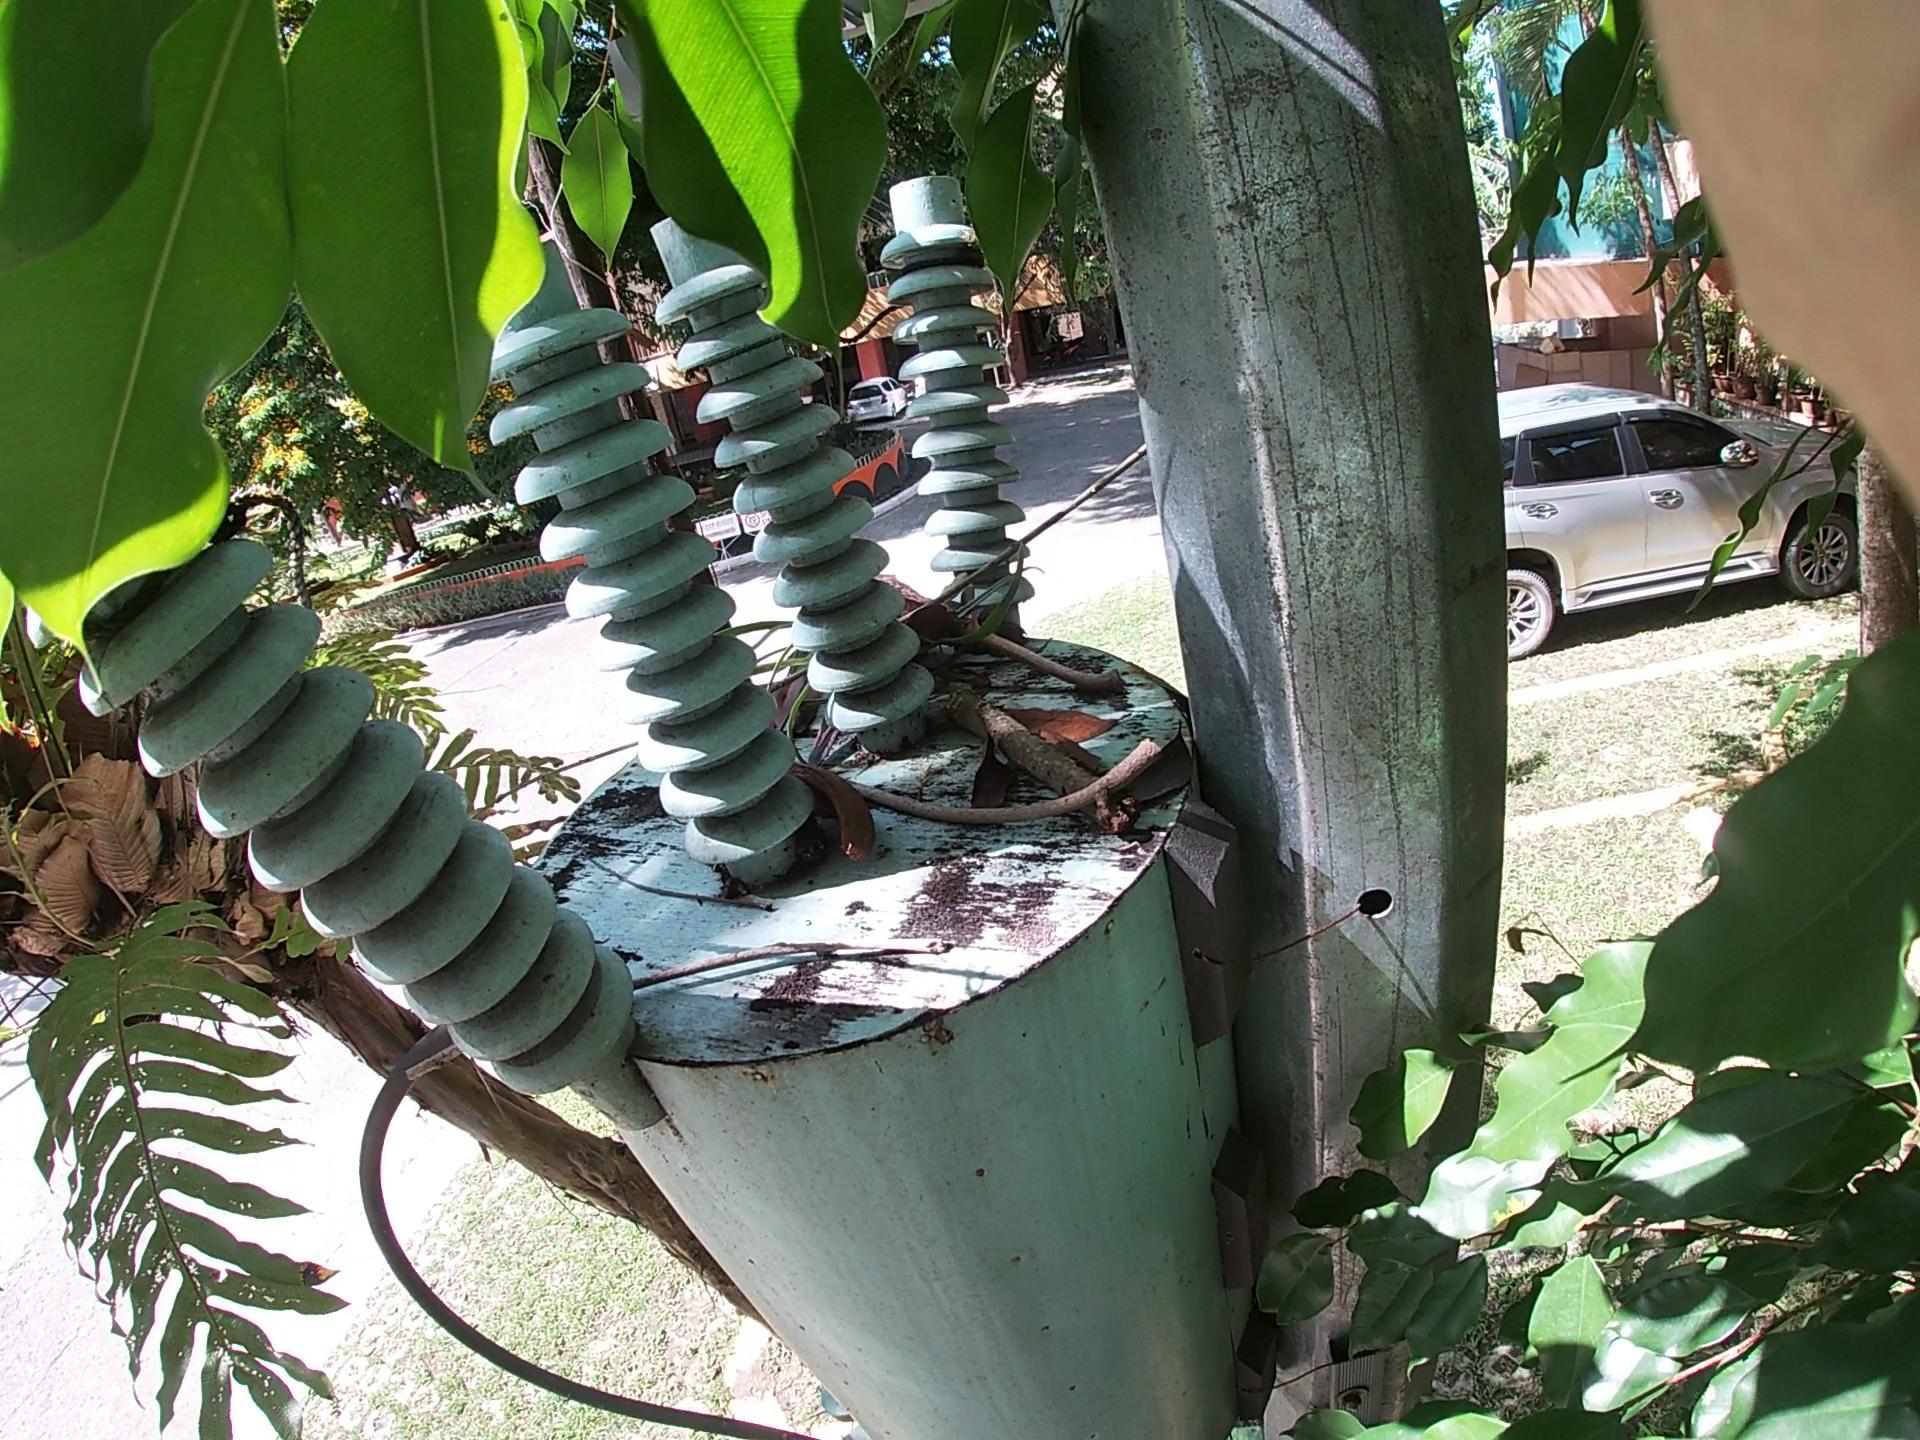branch with leaves: (841, 501, 1184, 853)
leaf: (1002, 669, 1128, 771)
tree branch: (376, 889, 1037, 1133), (819, 421, 1191, 702), (745, 750, 1166, 862), (869, 537, 1157, 691)
